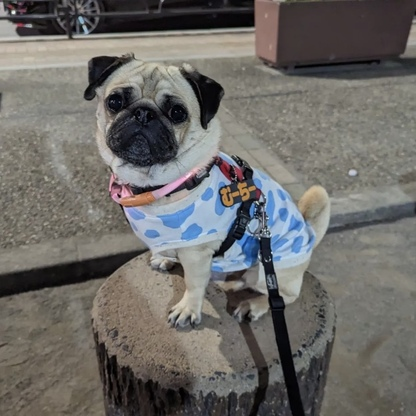Pug: (80, 49, 338, 334)
